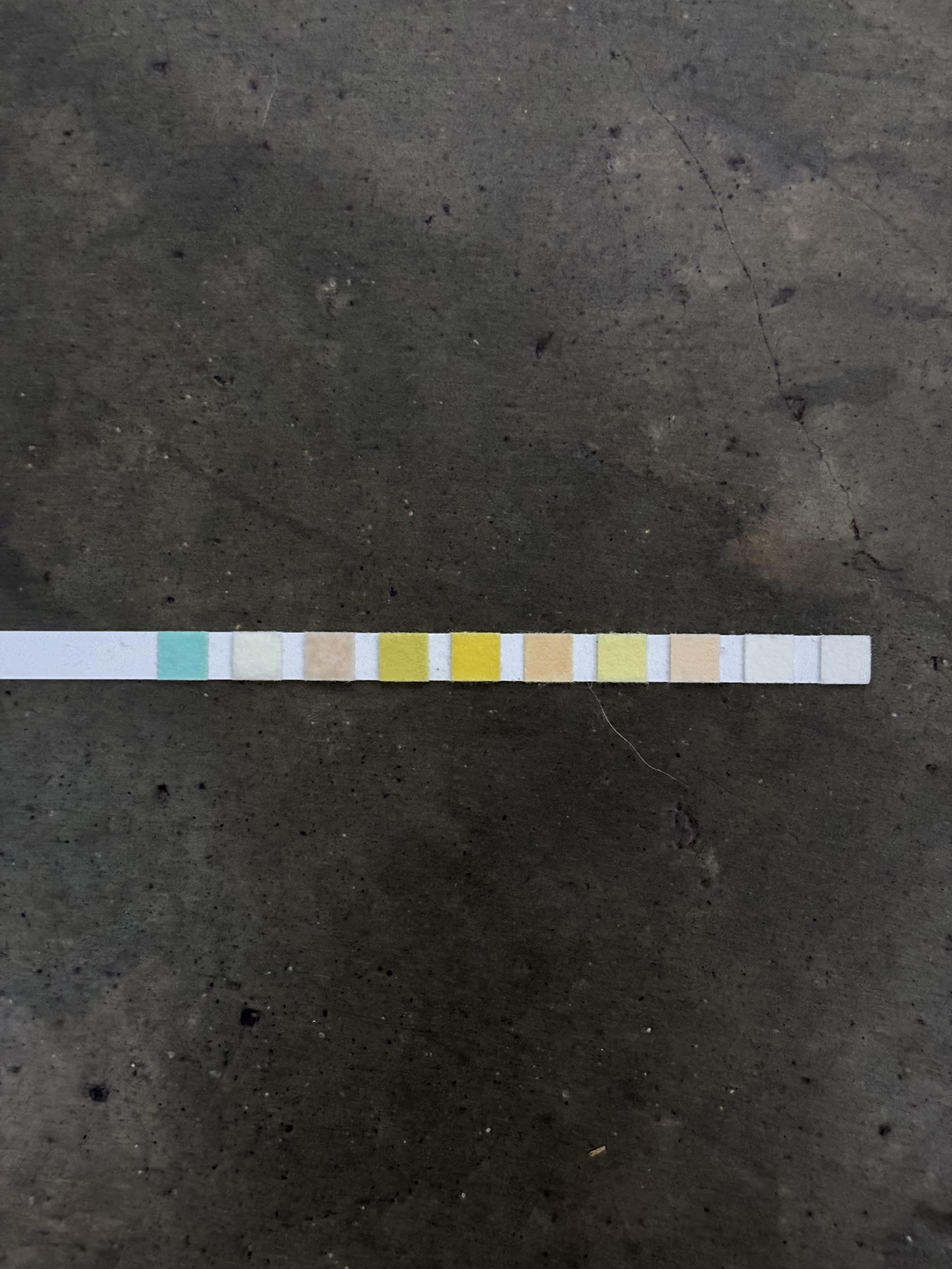Bilirubin: (236, 633, 283, 680)
Blood: (453, 634, 500, 681)
Glucose: (160, 633, 207, 680)
Ketone: (307, 632, 354, 679)
Leukocytes: (823, 636, 870, 683)
Nitrite: (747, 636, 794, 683)
Protein: (600, 633, 647, 680)
SpGravity: (381, 635, 428, 682)
Urobilinogen: (673, 635, 720, 682)
pH: (525, 633, 572, 680)
strip: (11, 631, 870, 685)
